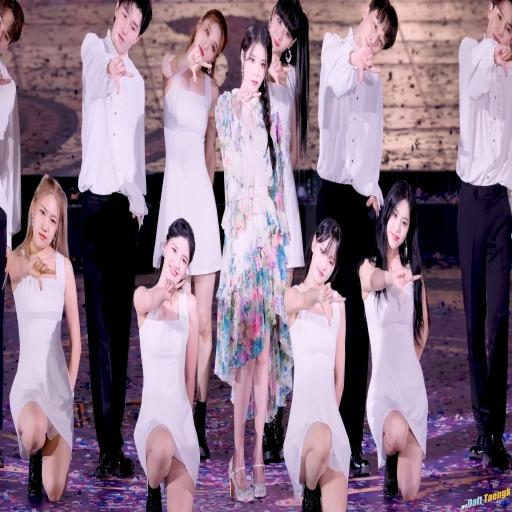IU: (240, 20, 272, 94)
